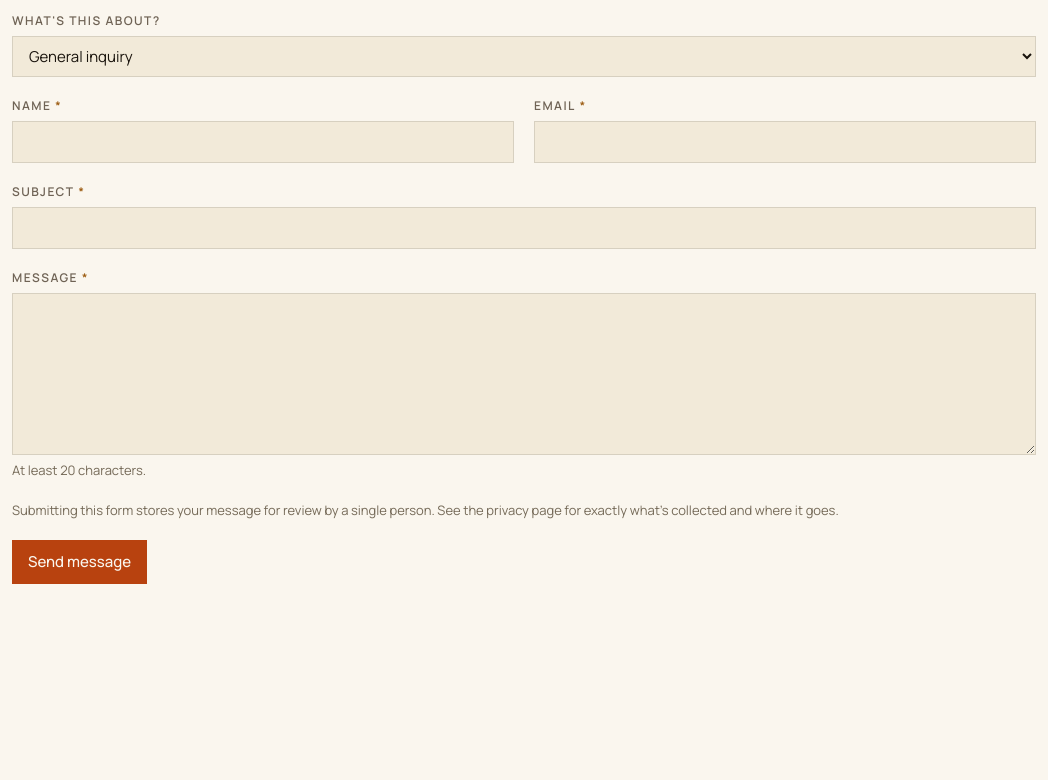
Test: InquiryForm › optional fields and related-service preselection › submits successfully with every optional field left blank
Step 1. Type "Jane Doe" into the field labelled "Name*" → (263, 142), box [12,121,514,163]
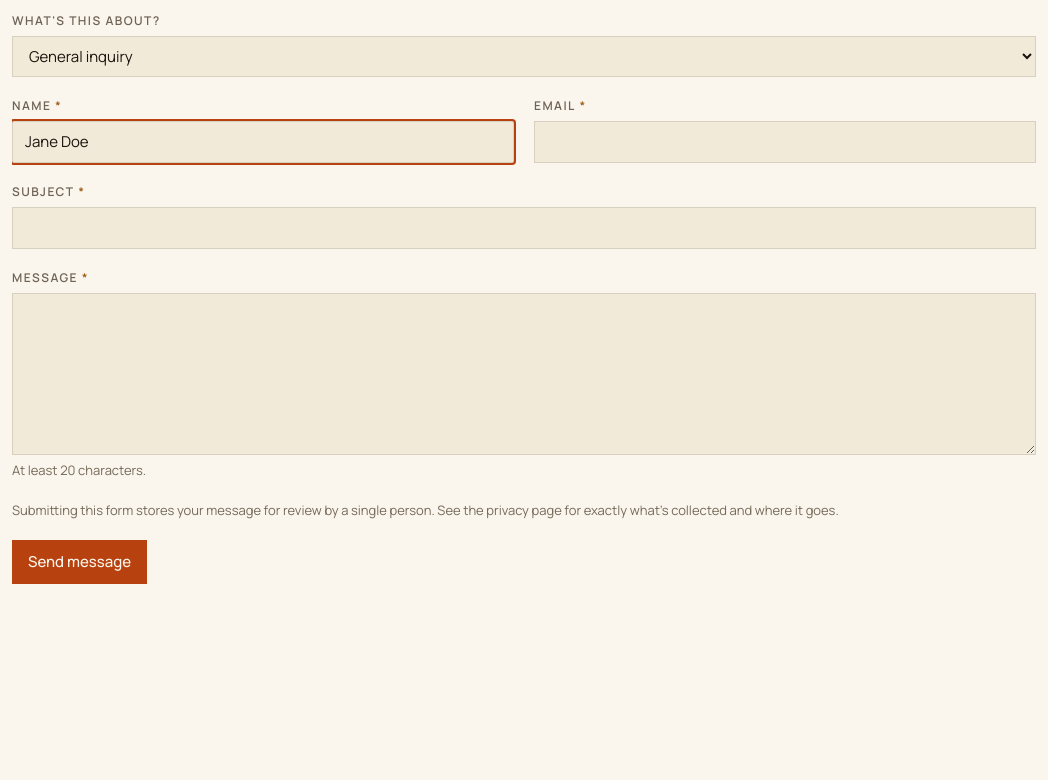
Step 2. Type "jane@example.com" into the field labelled "Email*" → (785, 142), box [534,121,1036,163]
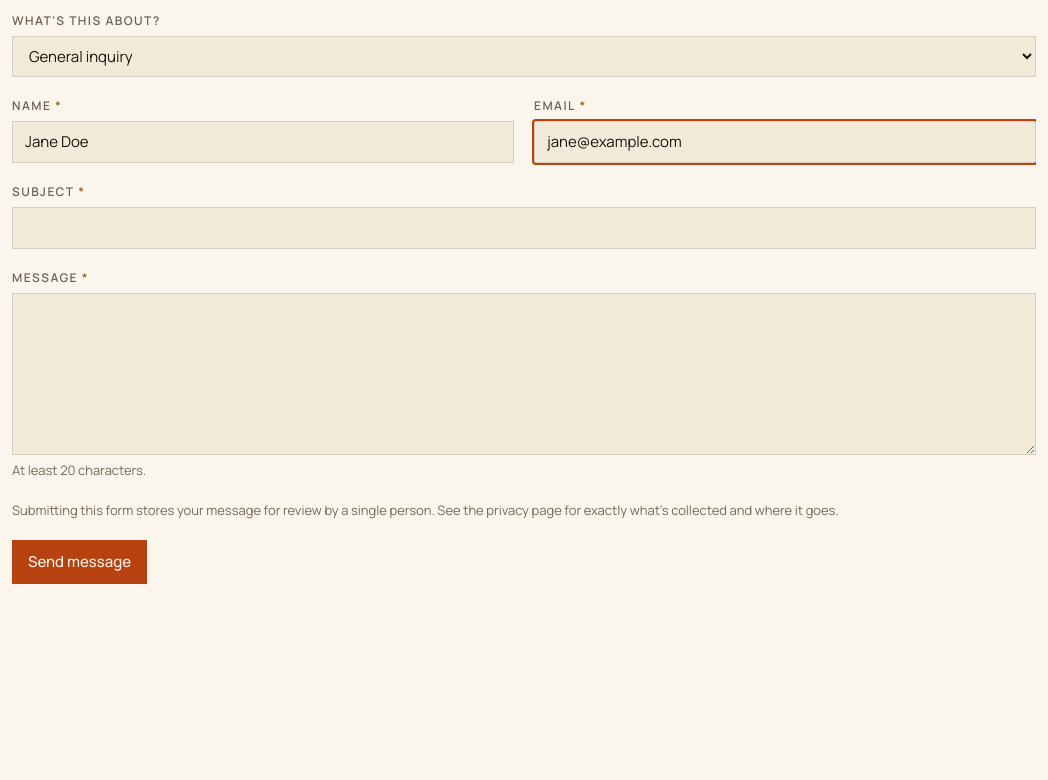
Step 3. Type "A general inquiry" into the field labelled "Subject*" → (524, 228), box [12,207,1036,249]
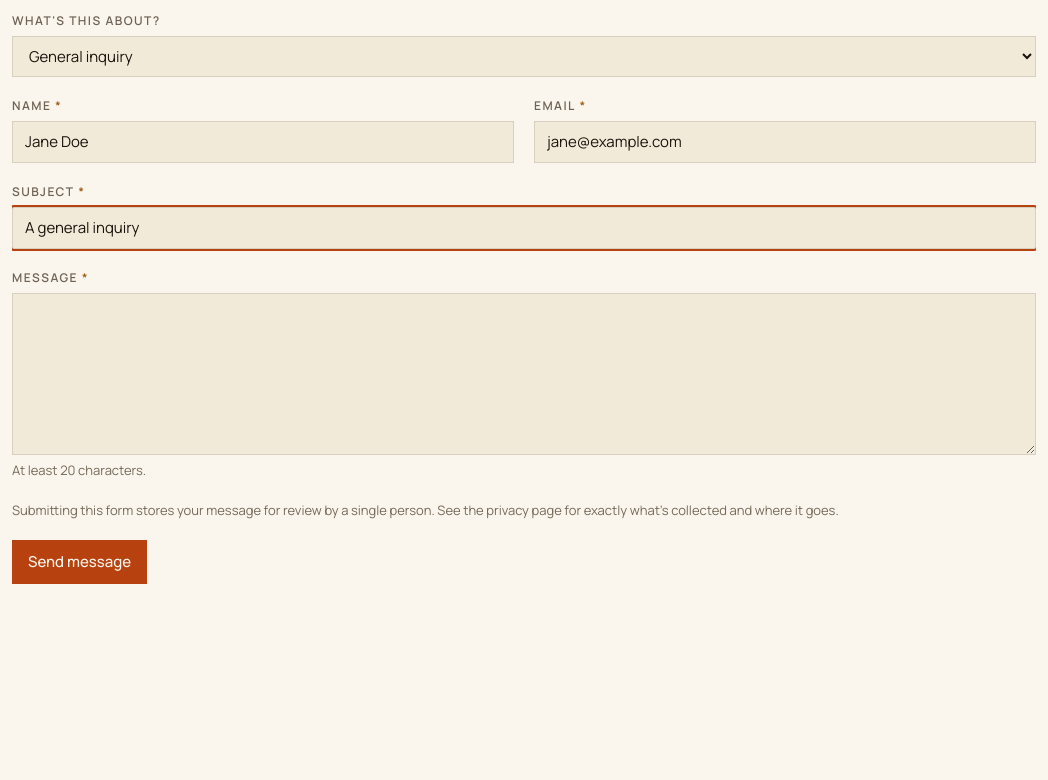
Step 4. Type "This message is definitely more than twenty characters long." into the text box labelled "Message*" → (524, 374), box [12,293,1036,455]
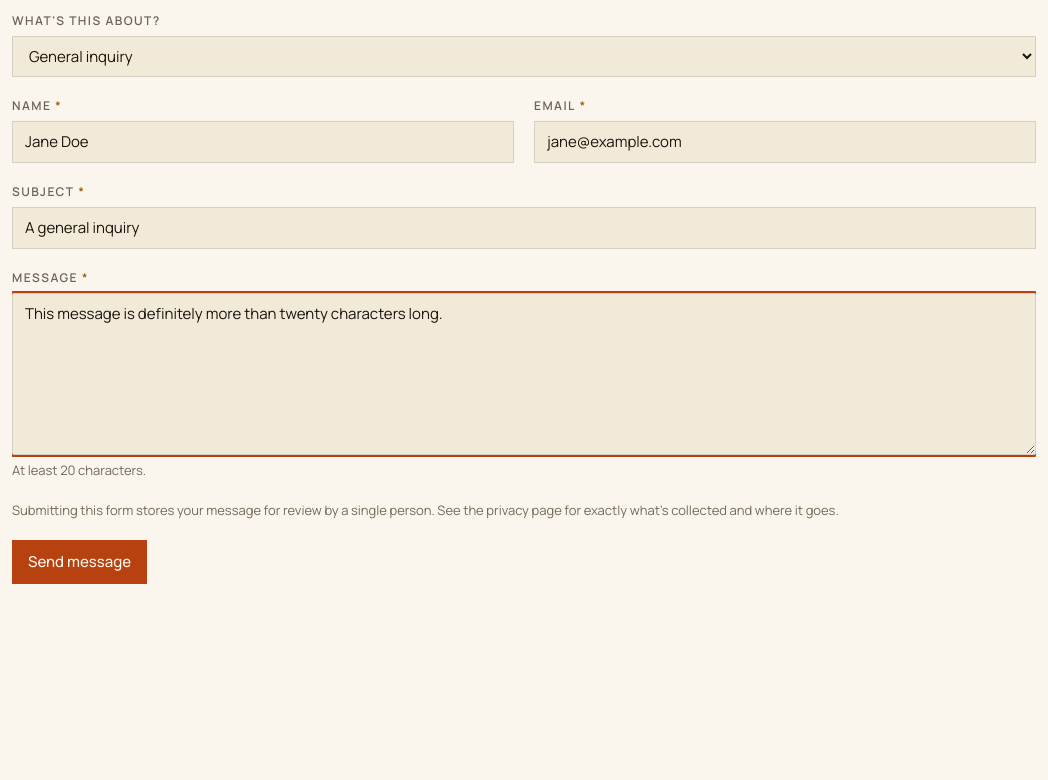
Step 5. Click the button "Send message" → (80, 562), box [12,540,147,584]
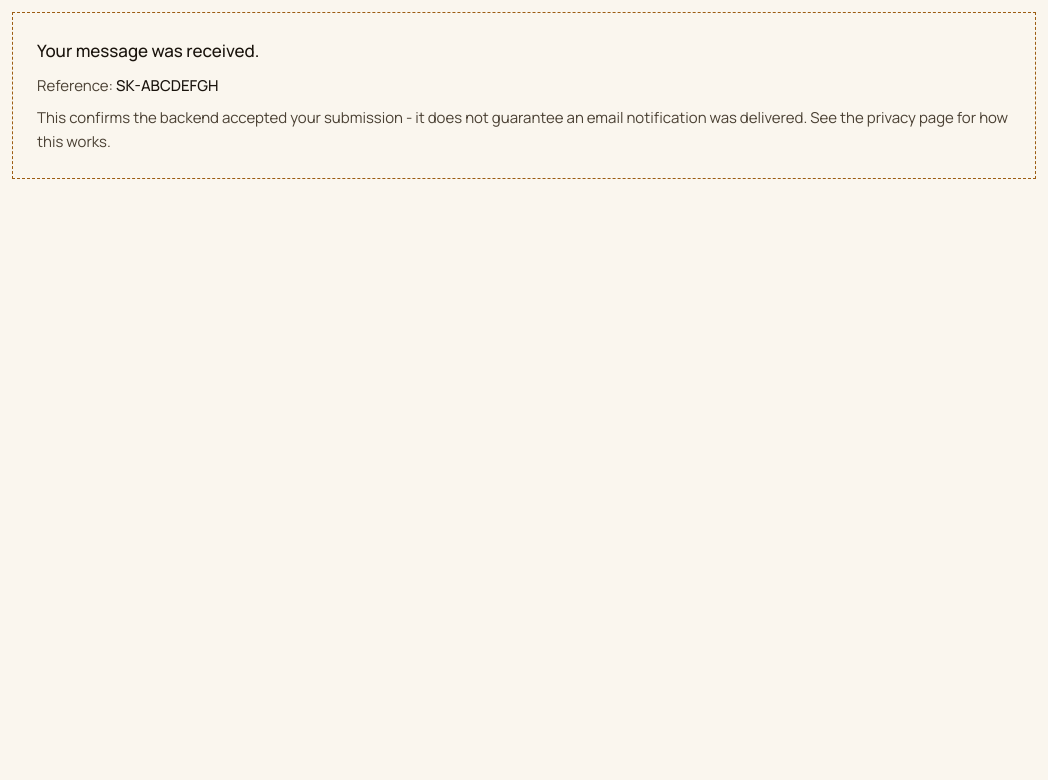
Expected: the text "Your message was received." is shown, [37,39,259,62]
